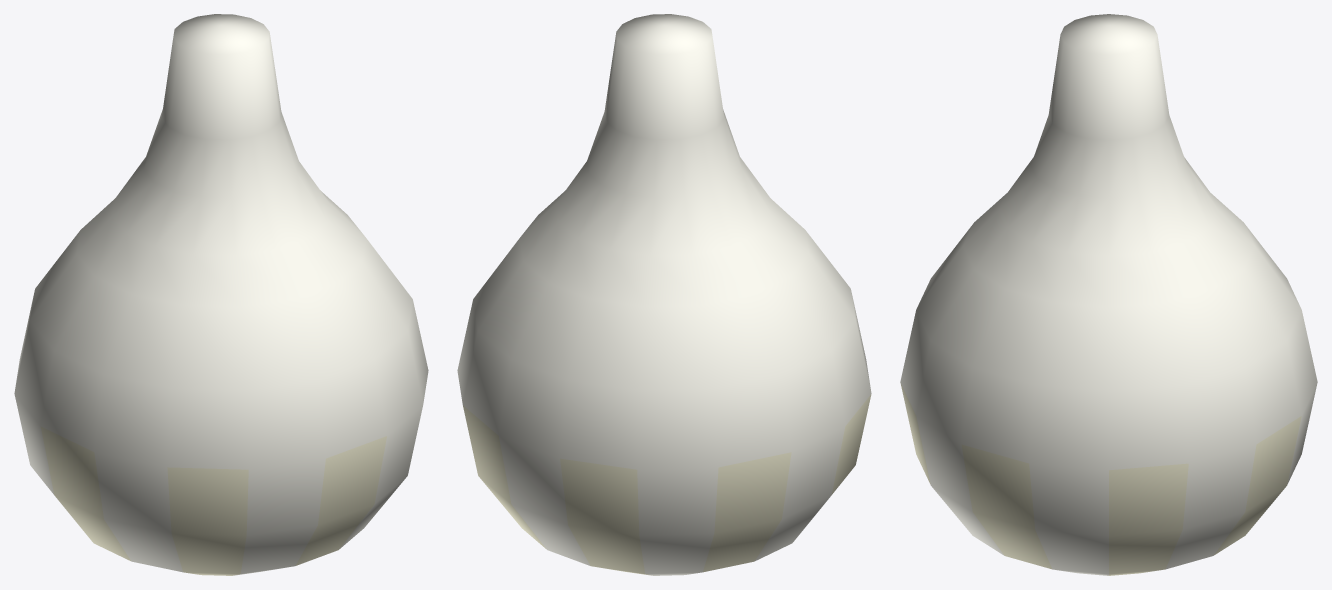
The model's file is garlic.glb.
3 views of the same model, side by side, from view 1: azimuth 30°, elevation 25°; view 2: azimuth 150°, elevation 25°; view 3: azimuth 270°, elevation 25° (orthographic).
Parts seen in each view (by area): view 1: Sphere.001; view 2: Sphere.001; view 3: Sphere.001.
Boxes of the visible parts, x1,y1,x2,y2 form: Sphere.001: [14, 14, 428, 575]; Sphere.001: [457, 14, 871, 575]; Sphere.001: [900, 14, 1317, 575].
Size of the model in its own units: 0.0351 by 0.0487 by 0.0351.
Materials: 1 (1 with a texture image).
